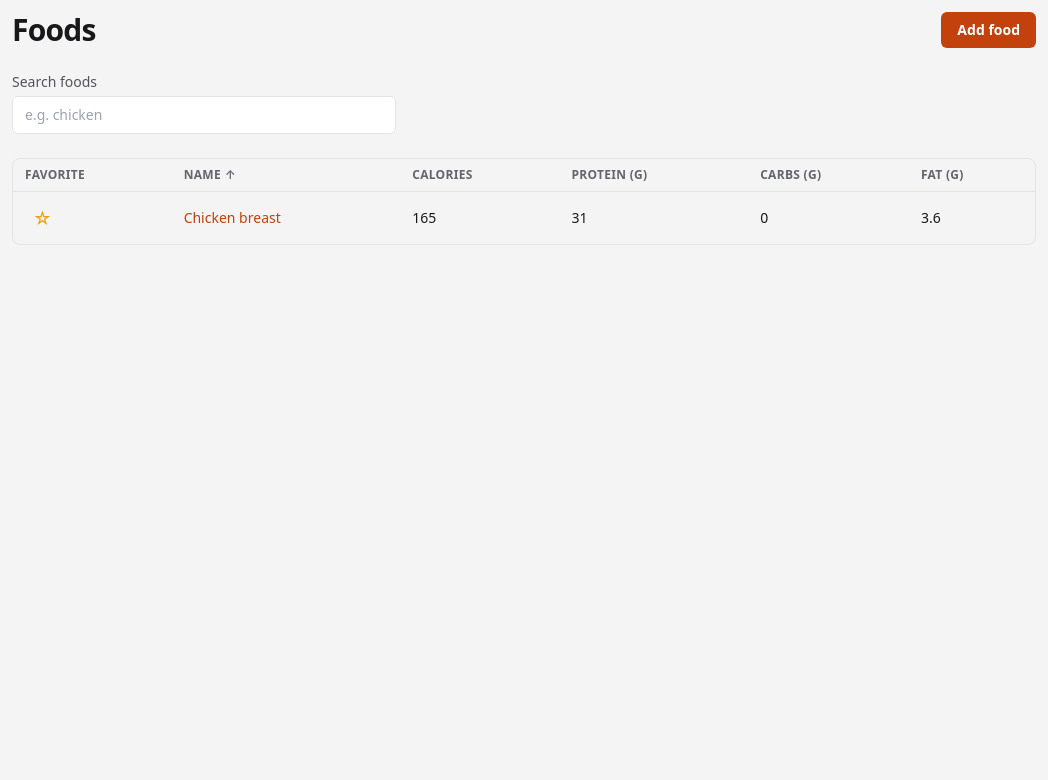
Test: FoodsPage › toggles favorite optimistically and shows a success toast
Expected: the button "Chicken breast" is shown, [184,208,281,228]
Click the button named "add chicken breast to favorites".
click(42, 218)  # box [25,200,60,236]
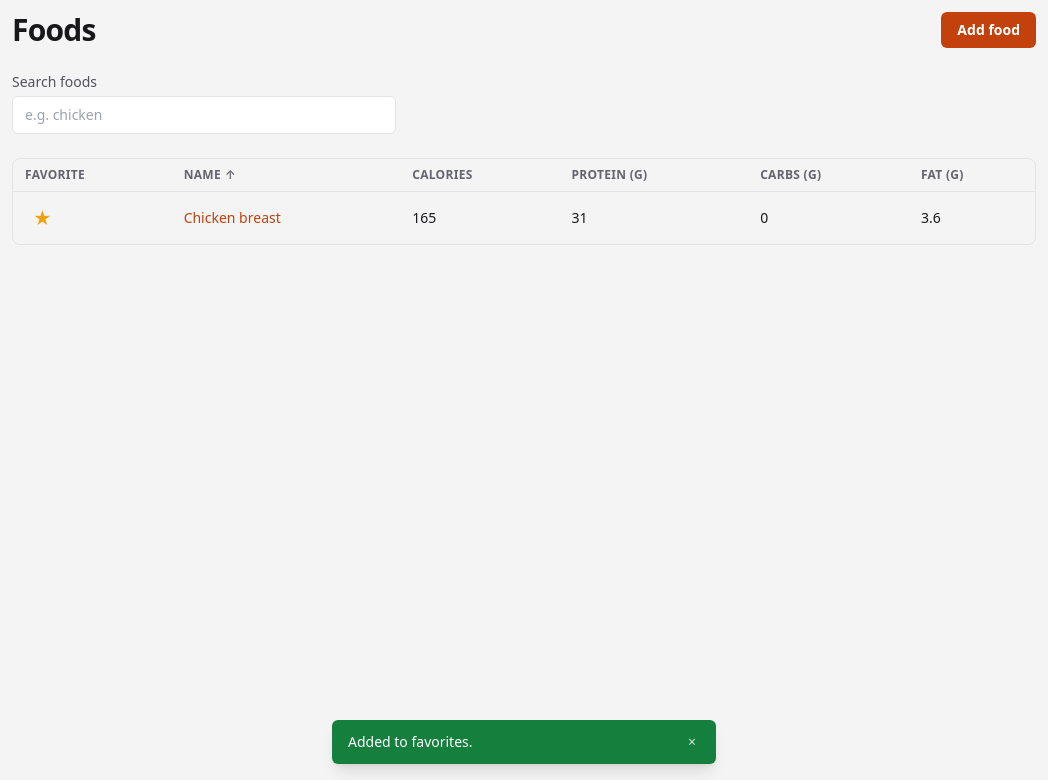
Expected: the button named "remove chicken breast from favorites" is shown, [25,200,60,236]
Expected: the text "Added to favorites." is shown, [348,732,472,752]
